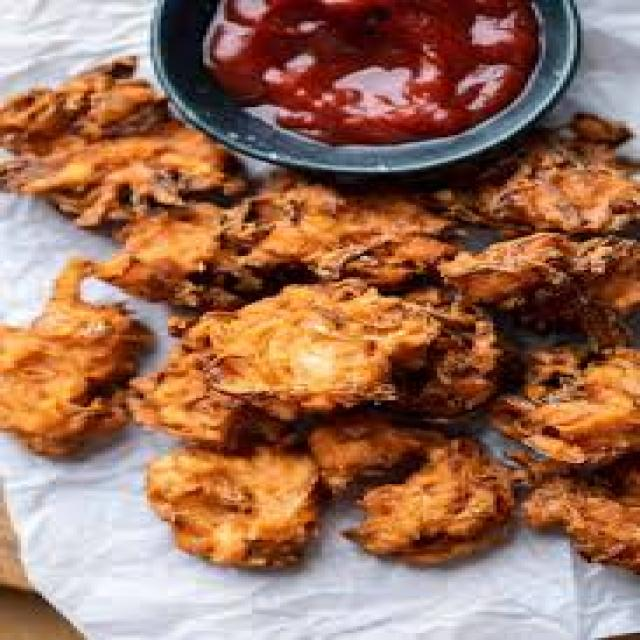BAJI: (157, 278, 504, 448), (109, 177, 472, 315), (0, 66, 227, 228), (317, 424, 522, 578), (0, 271, 164, 460), (149, 448, 321, 574), (459, 123, 637, 230), (457, 235, 637, 329), (500, 337, 637, 460), (522, 465, 637, 585)
